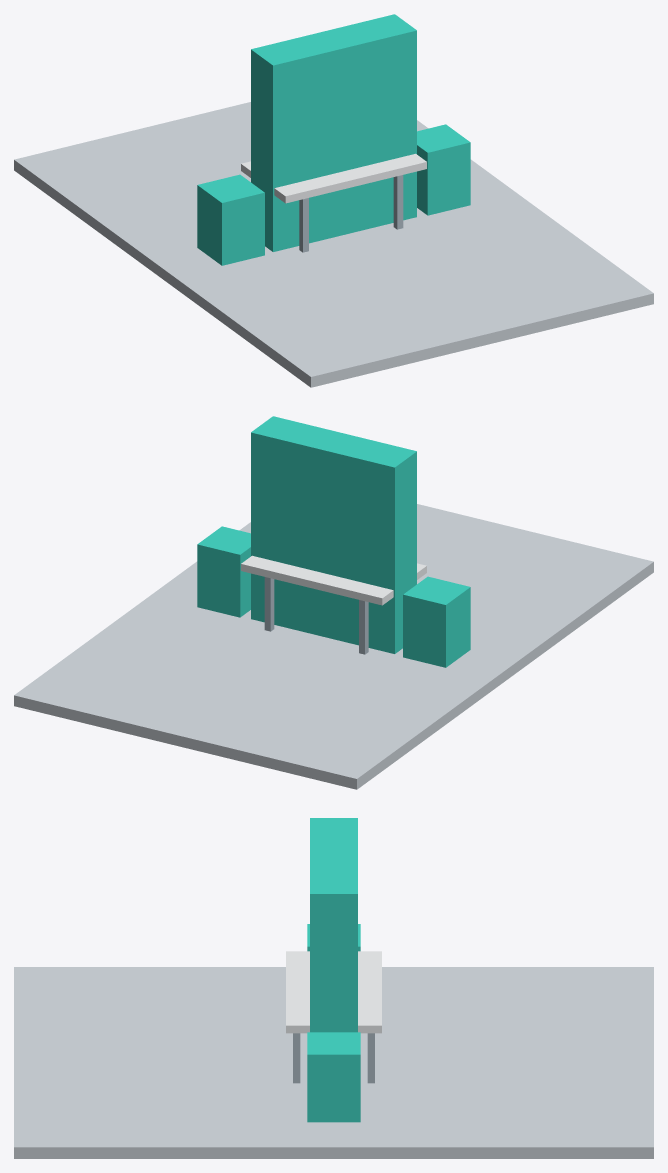
3 views of the same model, one above another, from view 1: azimuth 30°, elevation 25°; view 2: azimuth 150°, elevation 25°; view 3: azimuth 270°, elevation 25° (orthographic). The views are drawn at different scales.
Parts seen in each view (by area): view 1: Exhibition Booth Concept; view 2: Exhibition Booth Concept; view 3: Exhibition Booth Concept.
Part boxes in pixels (bbox=[...]): Exhibition Booth Concept: bbox=[14, 14, 653, 387]; Exhibition Booth Concept: bbox=[14, 416, 653, 789]; Exhibition Booth Concept: bbox=[14, 818, 653, 1158].
Bounding box in the file's own units: 4 × 2.2 × 6.
